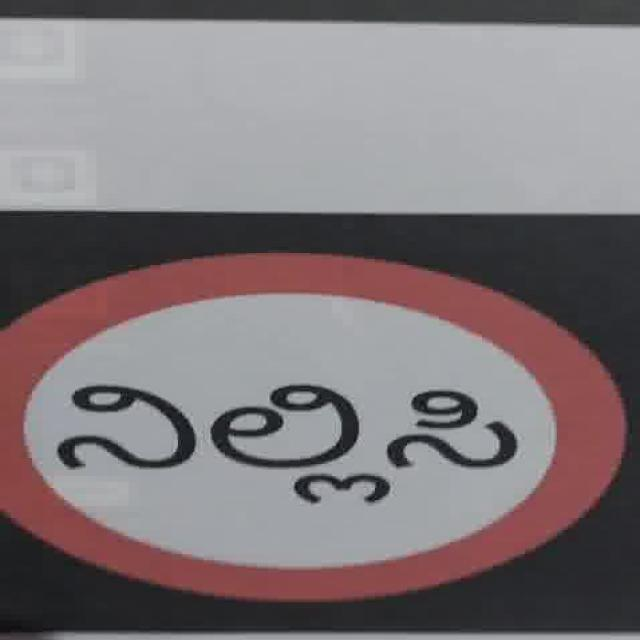kannadastop: (2, 250, 630, 602), (51, 380, 521, 504)
